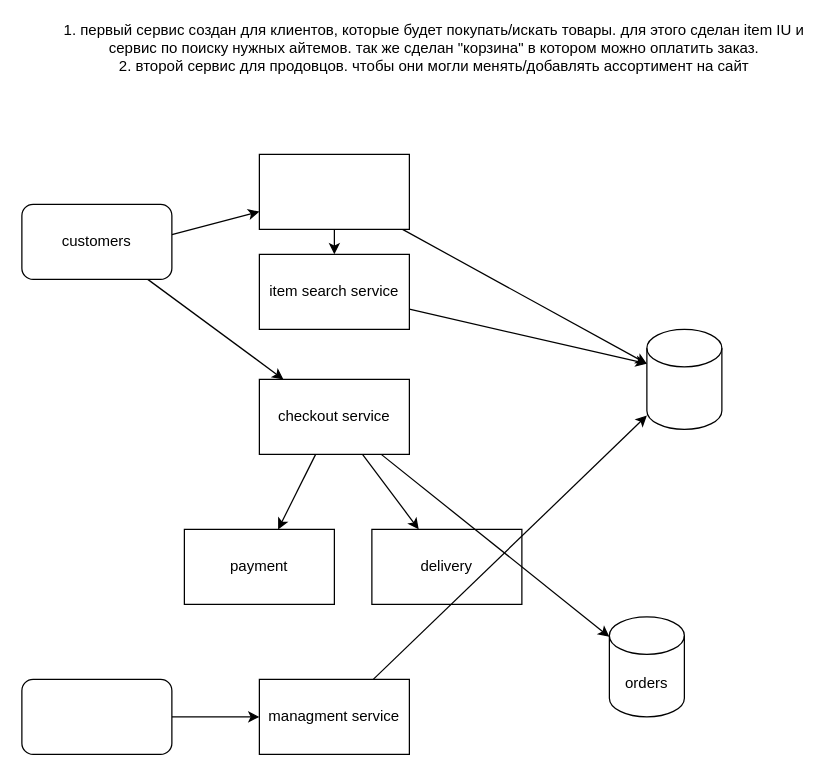
Image size: 831x776. Some labels were removed from this diagram. Each missing label, with the box of its shape:
item UI: (258, 153, 409, 229)
items: (646, 328, 722, 429)
sellers: (21, 678, 172, 754)
